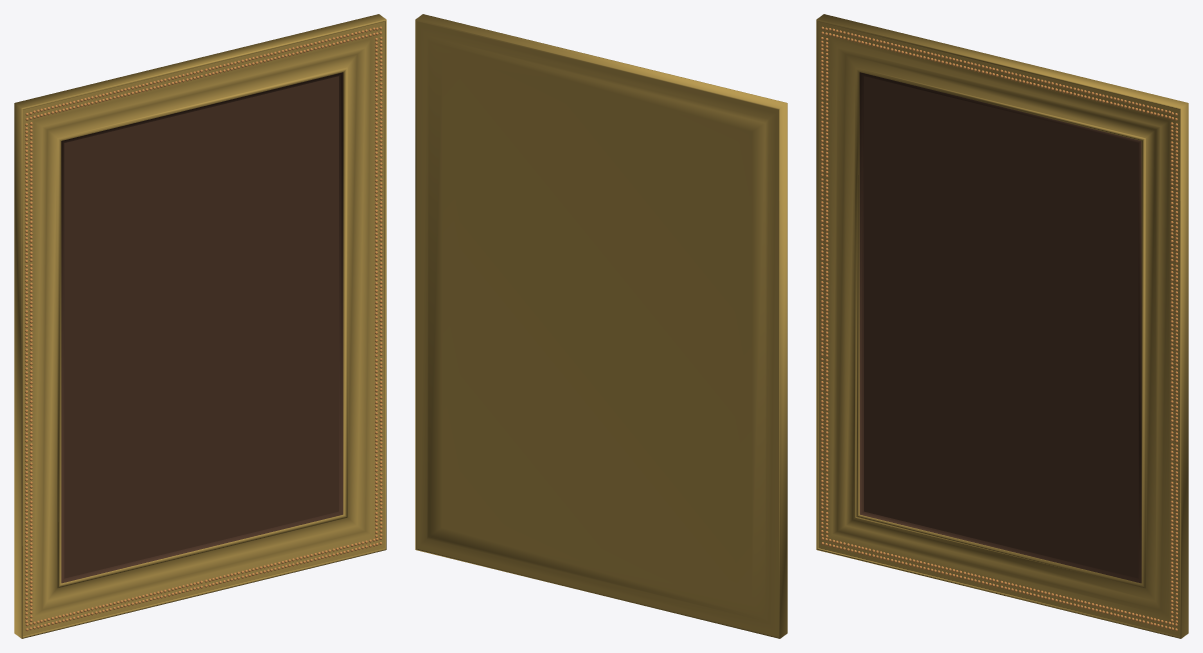
The model's file is painting frame.fbx.
The picture shows the model from 3 angles, left to right: view 1: azimuth 30°, elevation 25°; view 2: azimuth 150°, elevation 25°; view 3: azimuth 330°, elevation 25°; orthographic projection.
Parts seen in each view (by area): view 1: Sphere.002; view 2: Sphere.002; view 3: Sphere.002.
Boxes of the visible parts, x1,y1,x2,y2 form: Sphere.002: (14, 14, 386, 638); Sphere.002: (415, 14, 787, 638); Sphere.002: (816, 14, 1188, 638).
Size of the model in its own units: 412 by 573 by 16.52.
